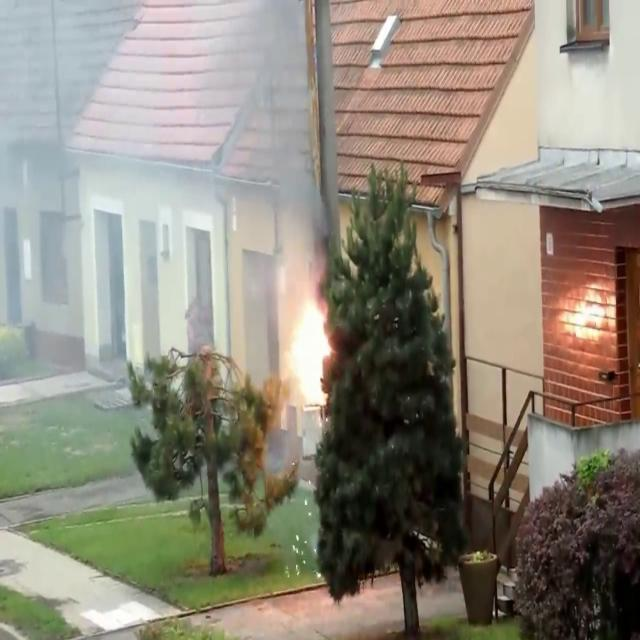Fire: (281, 284, 335, 410), (554, 280, 616, 347)
Smoke: (0, 0, 196, 360), (225, 2, 338, 286)
